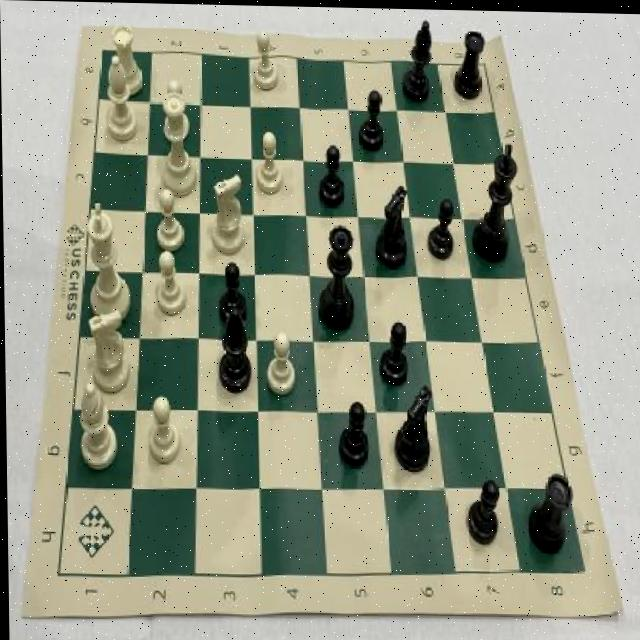bishop: (216, 307, 254, 397), (400, 15, 436, 104)
black-bishop: (469, 139, 520, 264)
black-king: (391, 377, 436, 475), (371, 180, 409, 268)
black-knight: (461, 474, 502, 546), (335, 398, 370, 469), (377, 319, 409, 389), (425, 195, 457, 260), (216, 261, 248, 324), (317, 141, 347, 208), (358, 86, 388, 152)
black-pawn: (315, 222, 357, 334)
black-queen: (522, 468, 574, 555), (453, 25, 487, 99)
black-rook: (75, 381, 118, 470), (98, 57, 142, 142)
white-bishop: (84, 200, 131, 322)
white-king: (84, 306, 132, 394), (208, 171, 248, 256)
white-knight: (143, 393, 182, 466), (151, 250, 187, 318), (253, 129, 285, 198), (264, 328, 296, 397), (249, 24, 280, 93), (153, 186, 185, 252), (161, 77, 191, 144)
white-pawn: (160, 92, 199, 199)
white-queen: (105, 16, 147, 99)
